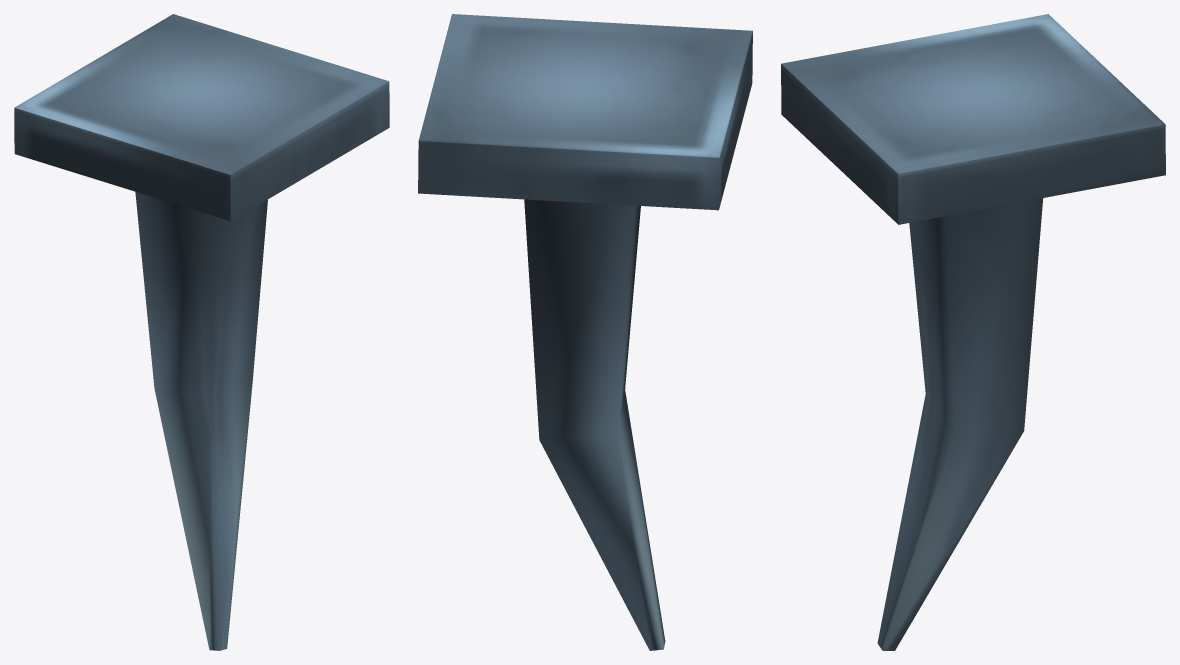
File: nail.fbx
3 renders of one model, left to right at view 1: azimuth 30°, elevation 25°; view 2: azimuth 150°, elevation 25°; view 3: azimuth 270°, elevation 25°, orthographic. The views are drawn at different scales.
Visible parts, largest first — view 1: nail; view 2: nail; view 3: nail.
Part boxes in pixels (box(x1,y1,x2,y2)): nail: box(14, 14, 389, 650); nail: box(418, 14, 752, 650); nail: box(781, 14, 1165, 650).
Size of the model in its own units: 0.4904 by 0.7999 by 0.4901.
